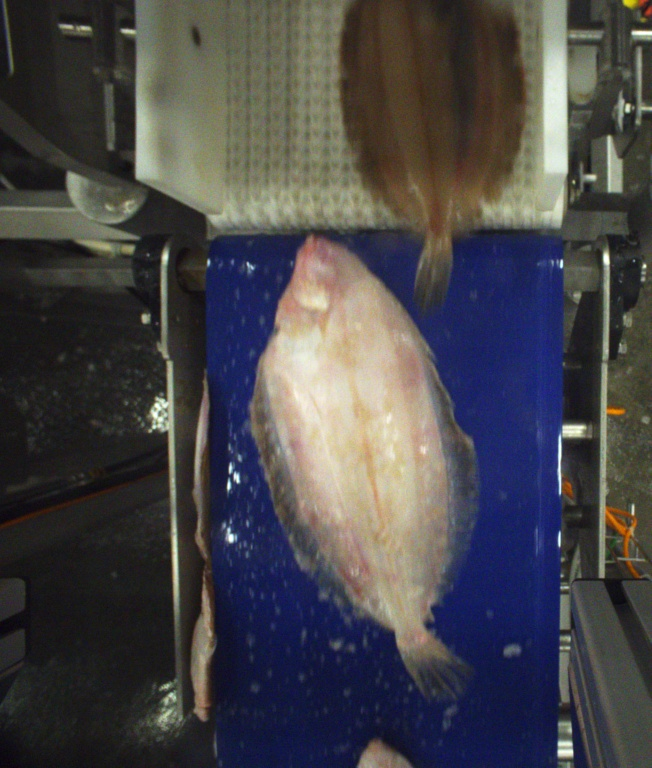WIT: (336, 0, 527, 316)
